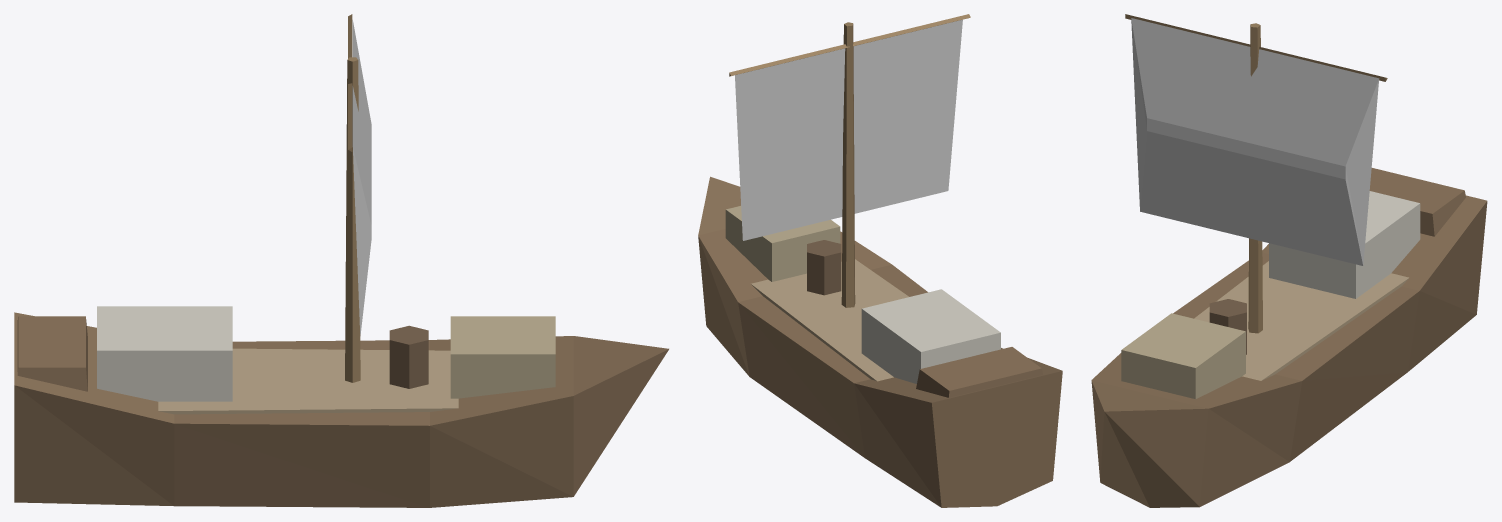
The model's file is cargo-ship.glb.
3 views of the same model, side by side, from view 1: azimuth 30°, elevation 25°; view 2: azimuth 150°, elevation 25°; view 3: azimuth 270°, elevation 25° (orthographic). The views are drawn at different scales.
Parts seen in each view (by area): view 1: LOD0; view 2: LOD0; view 3: LOD0.
Boxes of the visible parts, box(x1,y1,x2,y2) form: LOD0: box(14, 14, 668, 507); LOD0: box(698, 14, 1062, 507); LOD0: box(1091, 14, 1487, 507).
Size of what is drawn, in the model's own units: 1.62 by 1.25 by 1.11.
